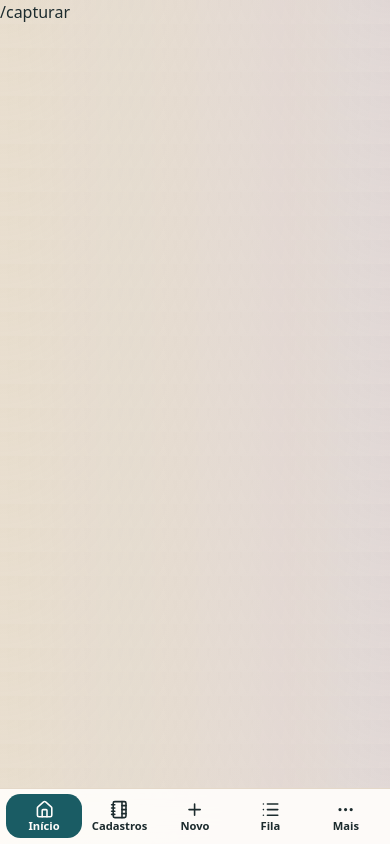
Test: painel Mais fecha sozinho › fecha ao tocar fora do painel
Click the button "Mais" at (346, 816), box [308,794,384,838]
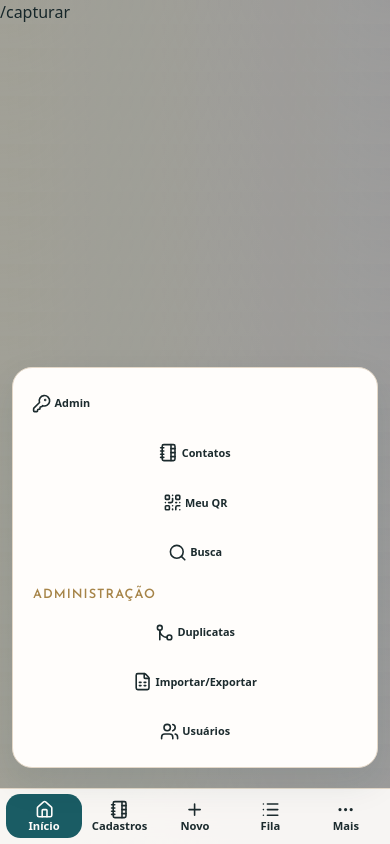
Check: the element with class "fundo-sobreposicao" is shown
Click the element with class "fundo-sobreposicao" at (195, 51), box [0,0,389,843]
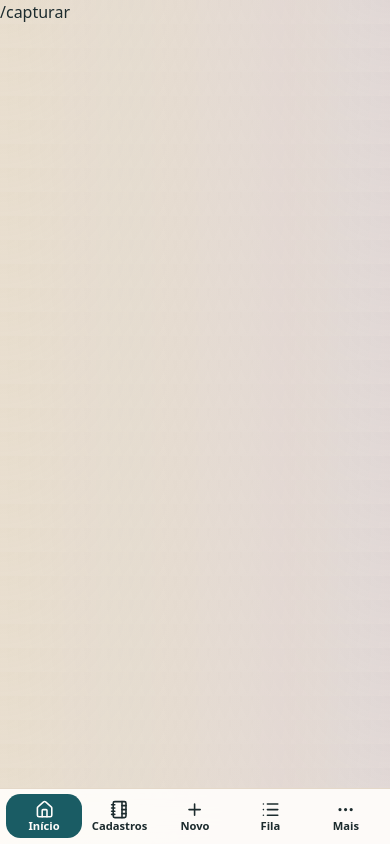
Check: the text with test id "rota" reads "/capturar", box [0,1,70,23]
Check: the element with class "fundo-sobreposicao" is gone
